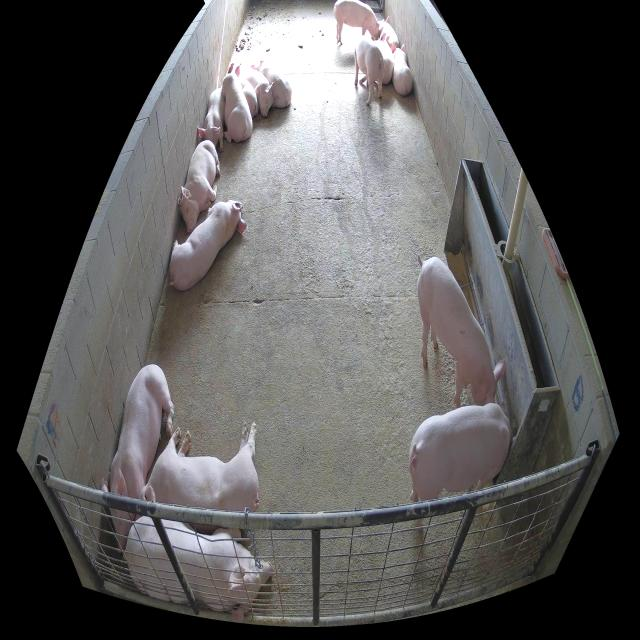pig: (124, 515, 274, 619), (101, 365, 174, 552), (417, 255, 505, 407), (409, 404, 513, 530), (139, 418, 259, 511), (170, 200, 248, 290), (178, 140, 221, 233), (222, 61, 252, 145), (334, 1, 381, 47), (354, 35, 384, 106), (251, 58, 292, 109), (239, 69, 280, 118), (198, 87, 224, 152), (391, 41, 414, 97), (378, 32, 394, 85), (239, 77, 257, 118), (378, 16, 399, 47)
